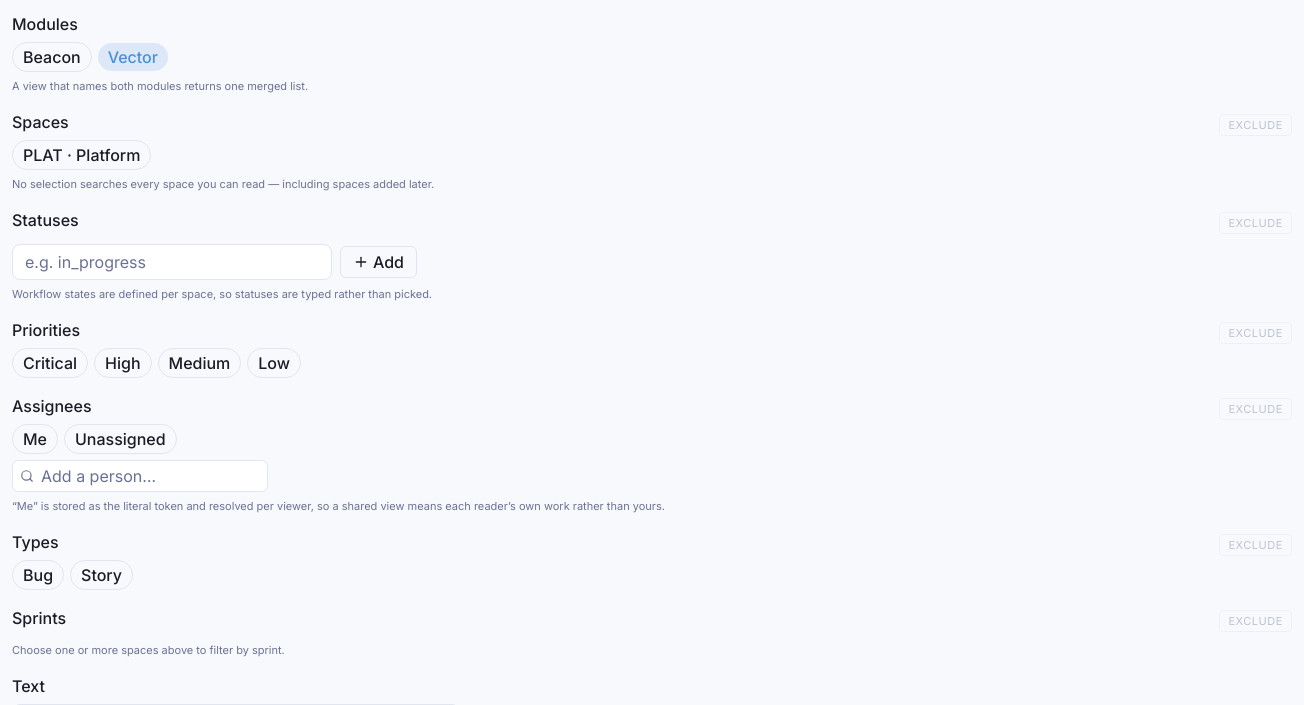
it: QueryFilterBuilder — v2 exclusion › warns that excluding an assignee keeps unassigned work in
Click the button "Me" at (35, 439), box [12,424,58,454]
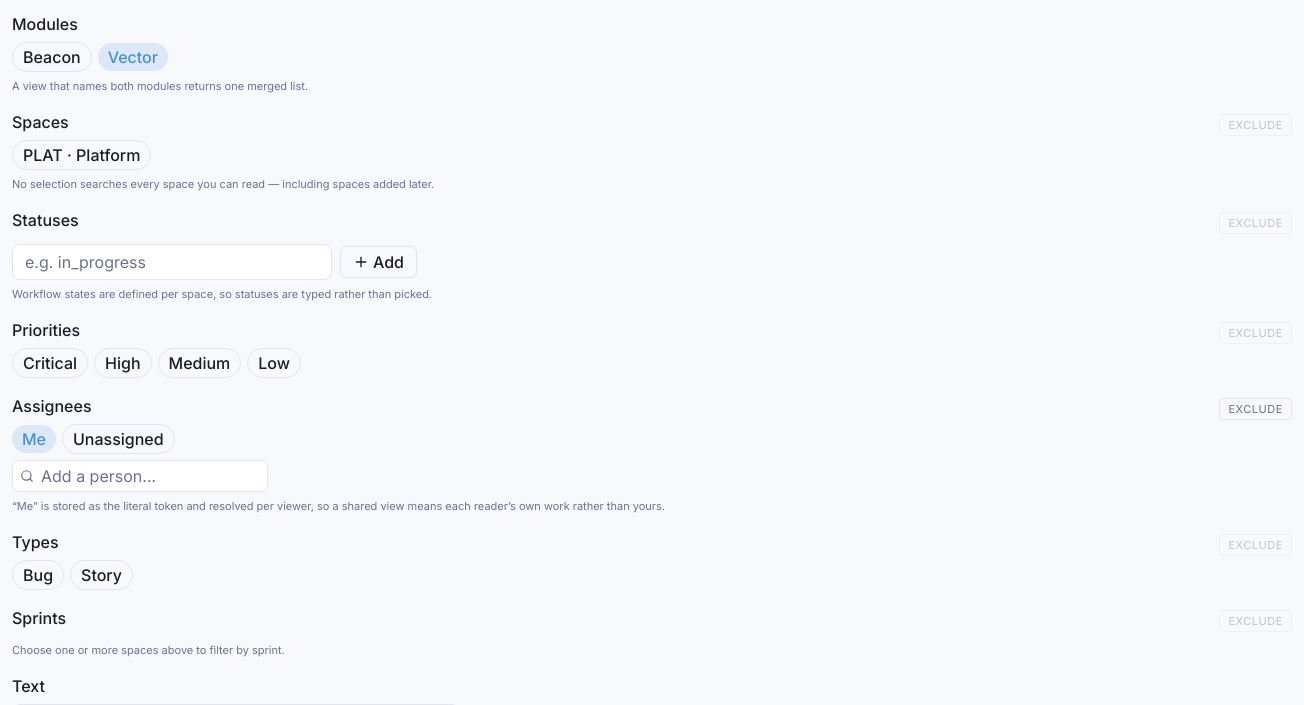
Click the switch with test id "view-exclude-assignees" at (1256, 409), box [1219,398,1292,420]
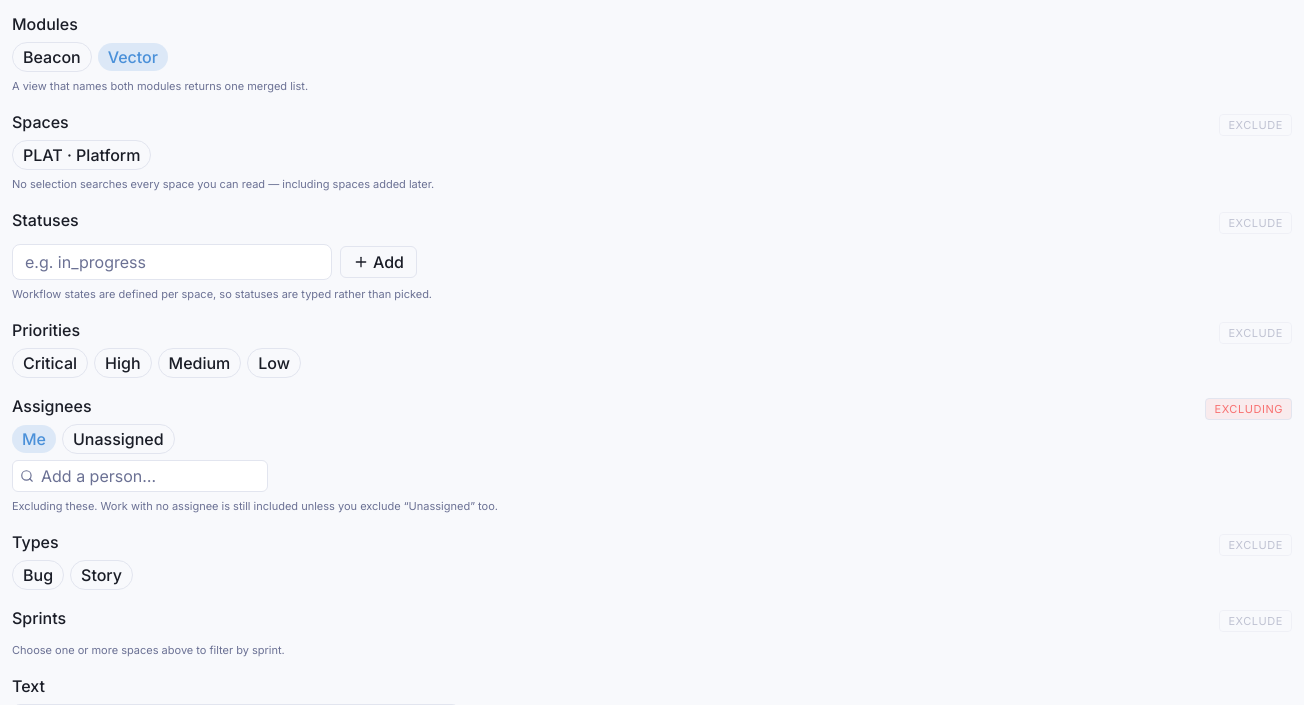
Expected: the text "Work with no assignee is still included" is shown, [12,499,498,513]
